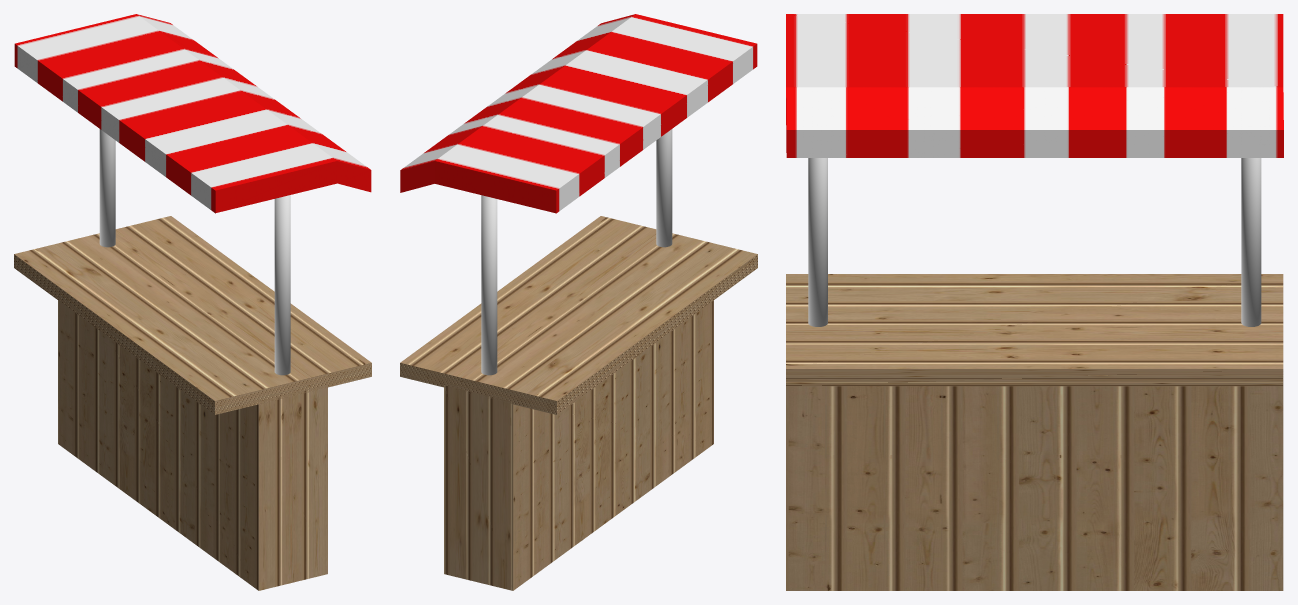
File: piac02_kesz.fbx
3 views of the same model, side by side, from view 1: azimuth 30°, elevation 25°; view 2: azimuth 150°, elevation 25°; view 3: azimuth 270°, elevation 25° (orthographic). The views are drawn at different scales.
Visible parts, largest first — view 1: alap; view 2: alap; view 3: alap.
Part boxes in pixels (x1,y1,x2,y2): alap: [14, 14, 371, 590]; alap: [400, 14, 757, 590]; alap: [786, 14, 1283, 590].
Size of the model in its own units: 90.26 by 226 by 200.
4 materials, 3 textured.
